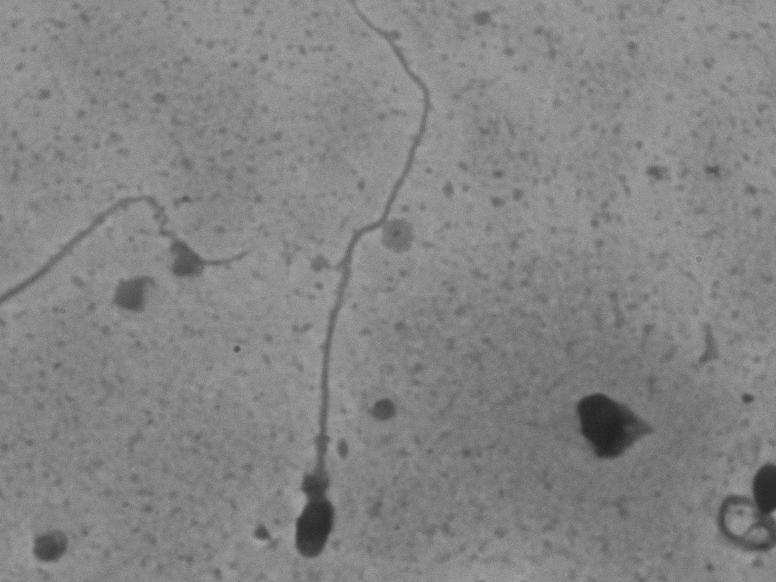Abnormal: (272, 13, 453, 568)
